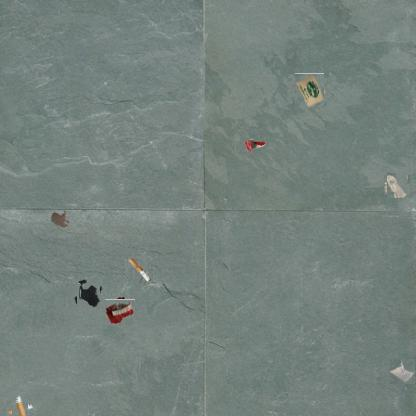dirty: (293, 75, 326, 107), (107, 298, 134, 325), (389, 358, 415, 384), (126, 257, 152, 283), (386, 174, 408, 196), (9, 397, 31, 416), (242, 138, 266, 154)
liquid: (75, 281, 102, 307), (50, 209, 70, 229)
